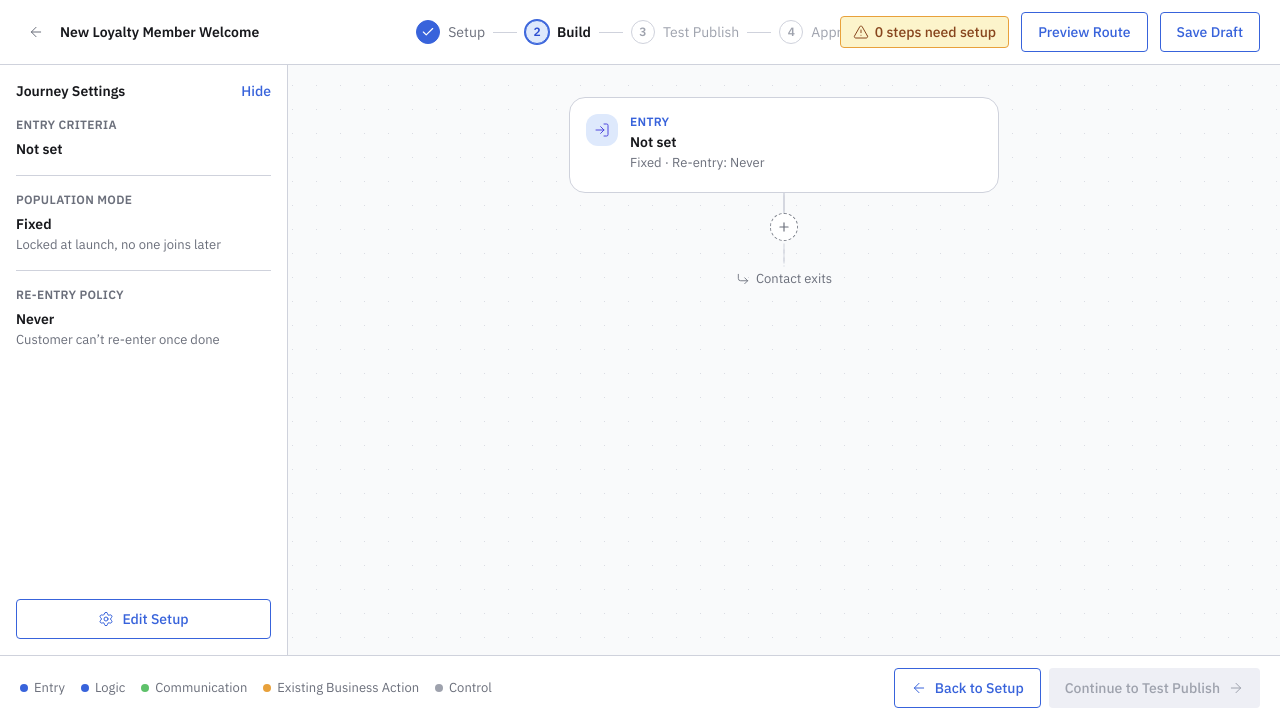
Test: Save Draft succeeds and shows a confirmation
Click the button "Save Draft": {"x": 1210, "y": 32} [1160,12,1260,52]
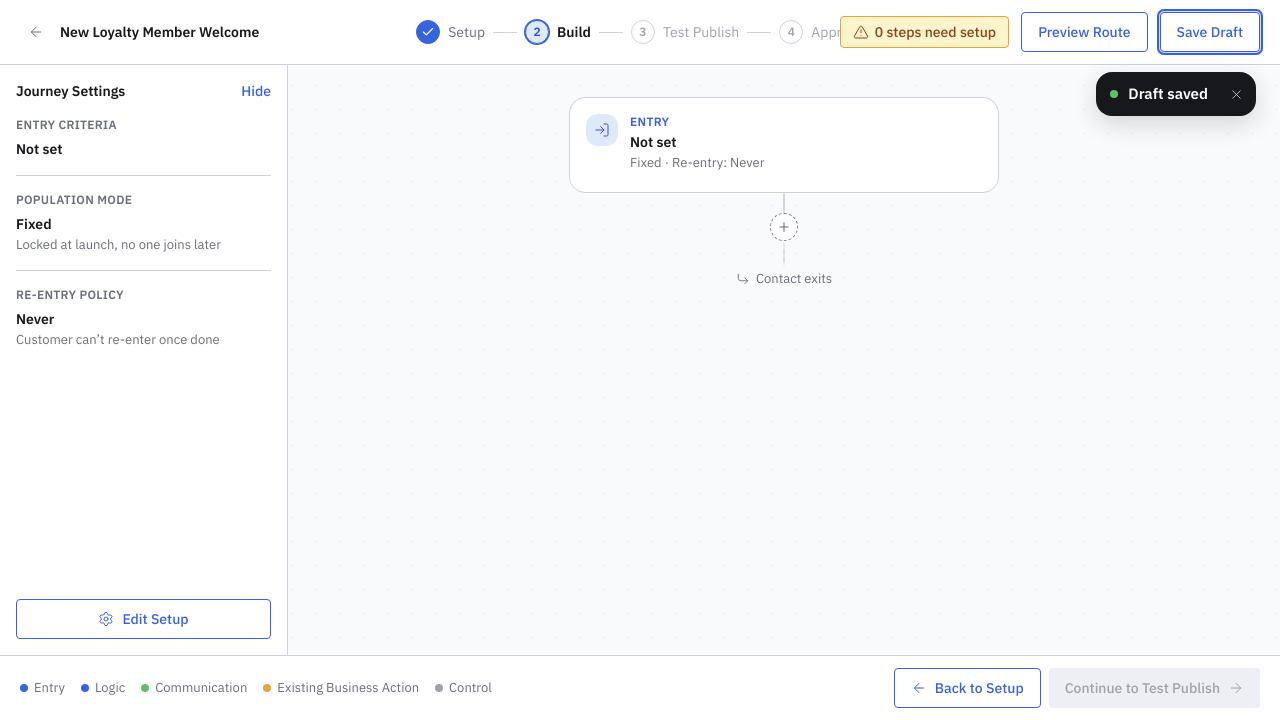
Check: the text "Draft saved" is shown, box [1128,83,1208,105]
